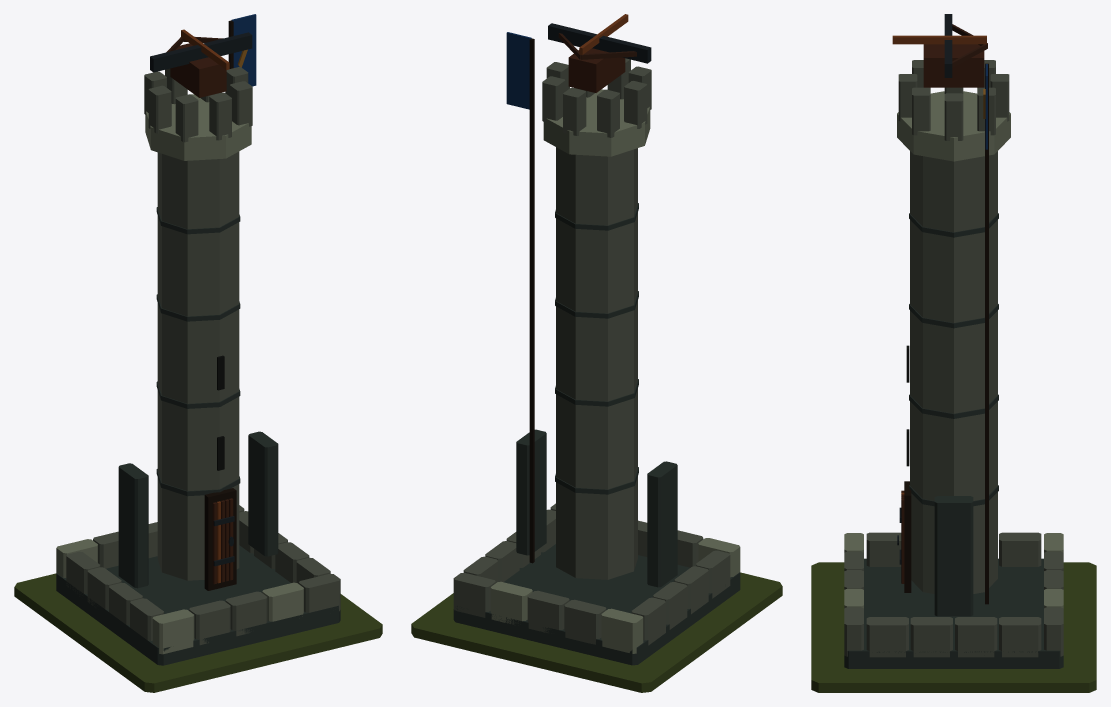
File: ballista_t6.glb
3 renders of one model, left to right at view 1: azimuth 30°, elevation 25°; view 2: azimuth 150°, elevation 25°; view 3: azimuth 270°, elevation 25°, orthographic. The views are drawn at different scales.
Parts seen in each view (by area): view 1: MMR | ballista | T06 Architecture.001, MMR | ballista | Tier 06 Ground.001; view 2: MMR | ballista | T06 Architecture.001, MMR | ballista | Tier 06 Ground.001; view 3: MMR | ballista | T06 Architecture.001, MMR | ballista | Tier 06 Ground.001.
Boxes of the visible parts, x1,y1,x2,y2 form: MMR | ballista | T06 Architecture.001: [56, 14, 340, 665]; MMR | ballista | Tier 06 Ground.001: [14, 573, 382, 692]; MMR | ballista | T06 Architecture.001: [453, 14, 740, 665]; MMR | ballista | Tier 06 Ground.001: [411, 572, 782, 692]; MMR | ballista | T06 Architecture.001: [844, 14, 1063, 668]; MMR | ballista | Tier 06 Ground.001: [811, 562, 1096, 692].
Bounding box in the file's own units: 1.3 × 3 × 1.3.
Materials: 1 (1 with a texture image).
